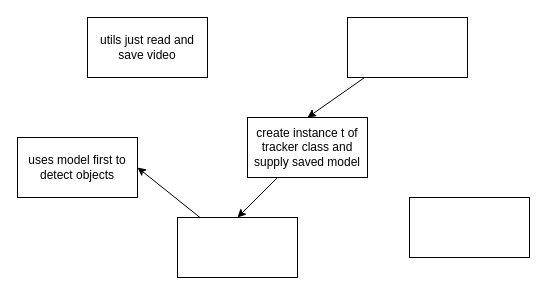
Some shapes in this 547 by 295 pixel diagram are drawn without their labels. Each missing label, with the centre of its shape:
"get tracks function of tracker called" goes at pixel 237 247.
"main reads vid frames" goes at pixel 407 47.
